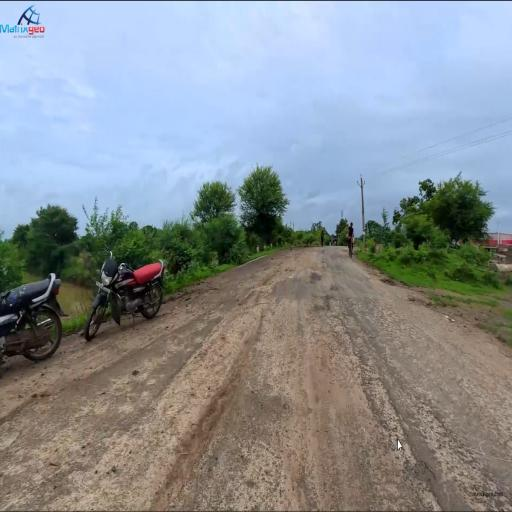ravelling: (272, 296, 407, 488)
